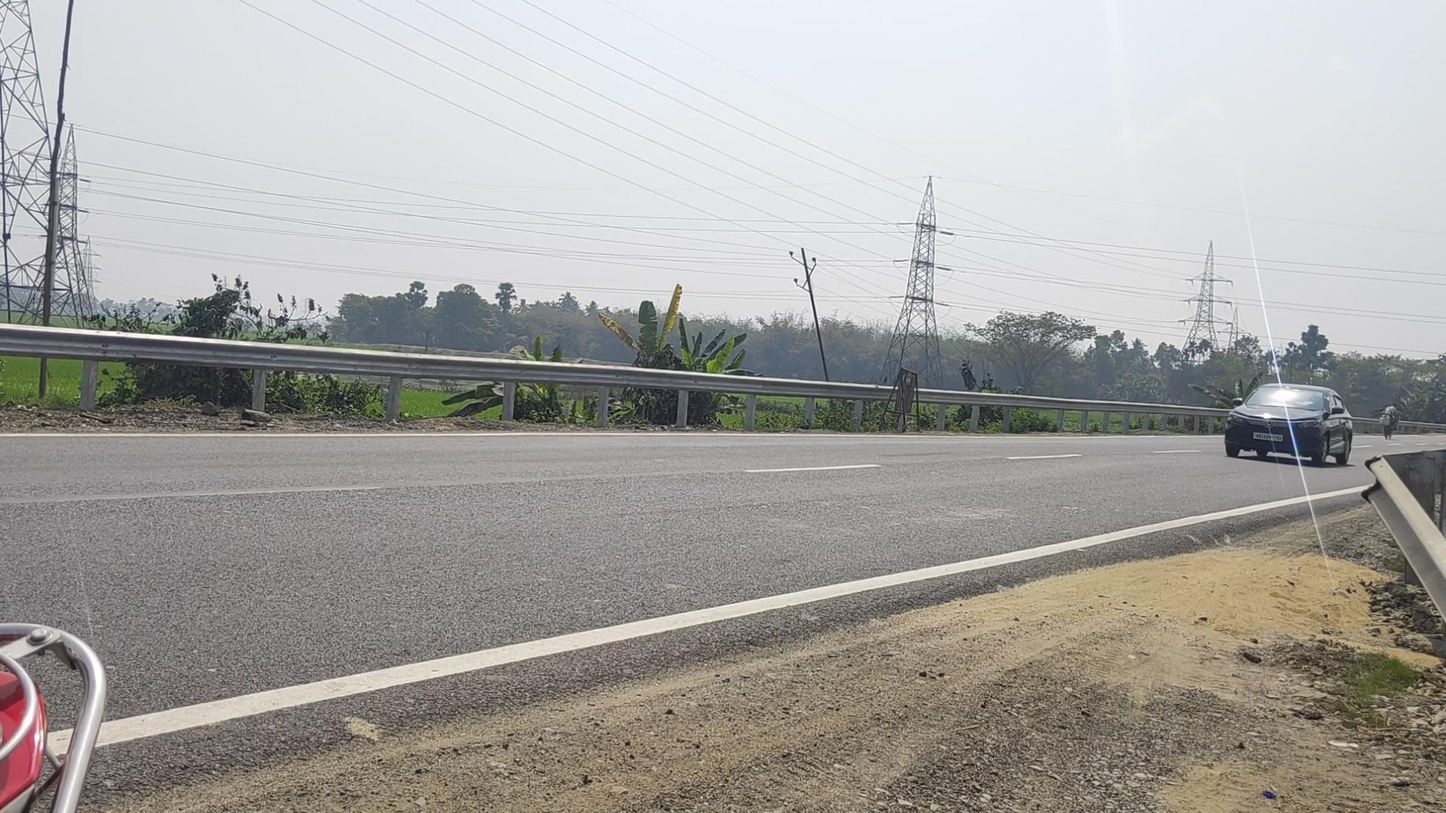bike: (1381, 403, 1399, 440)
car: (1224, 383, 1353, 467)
